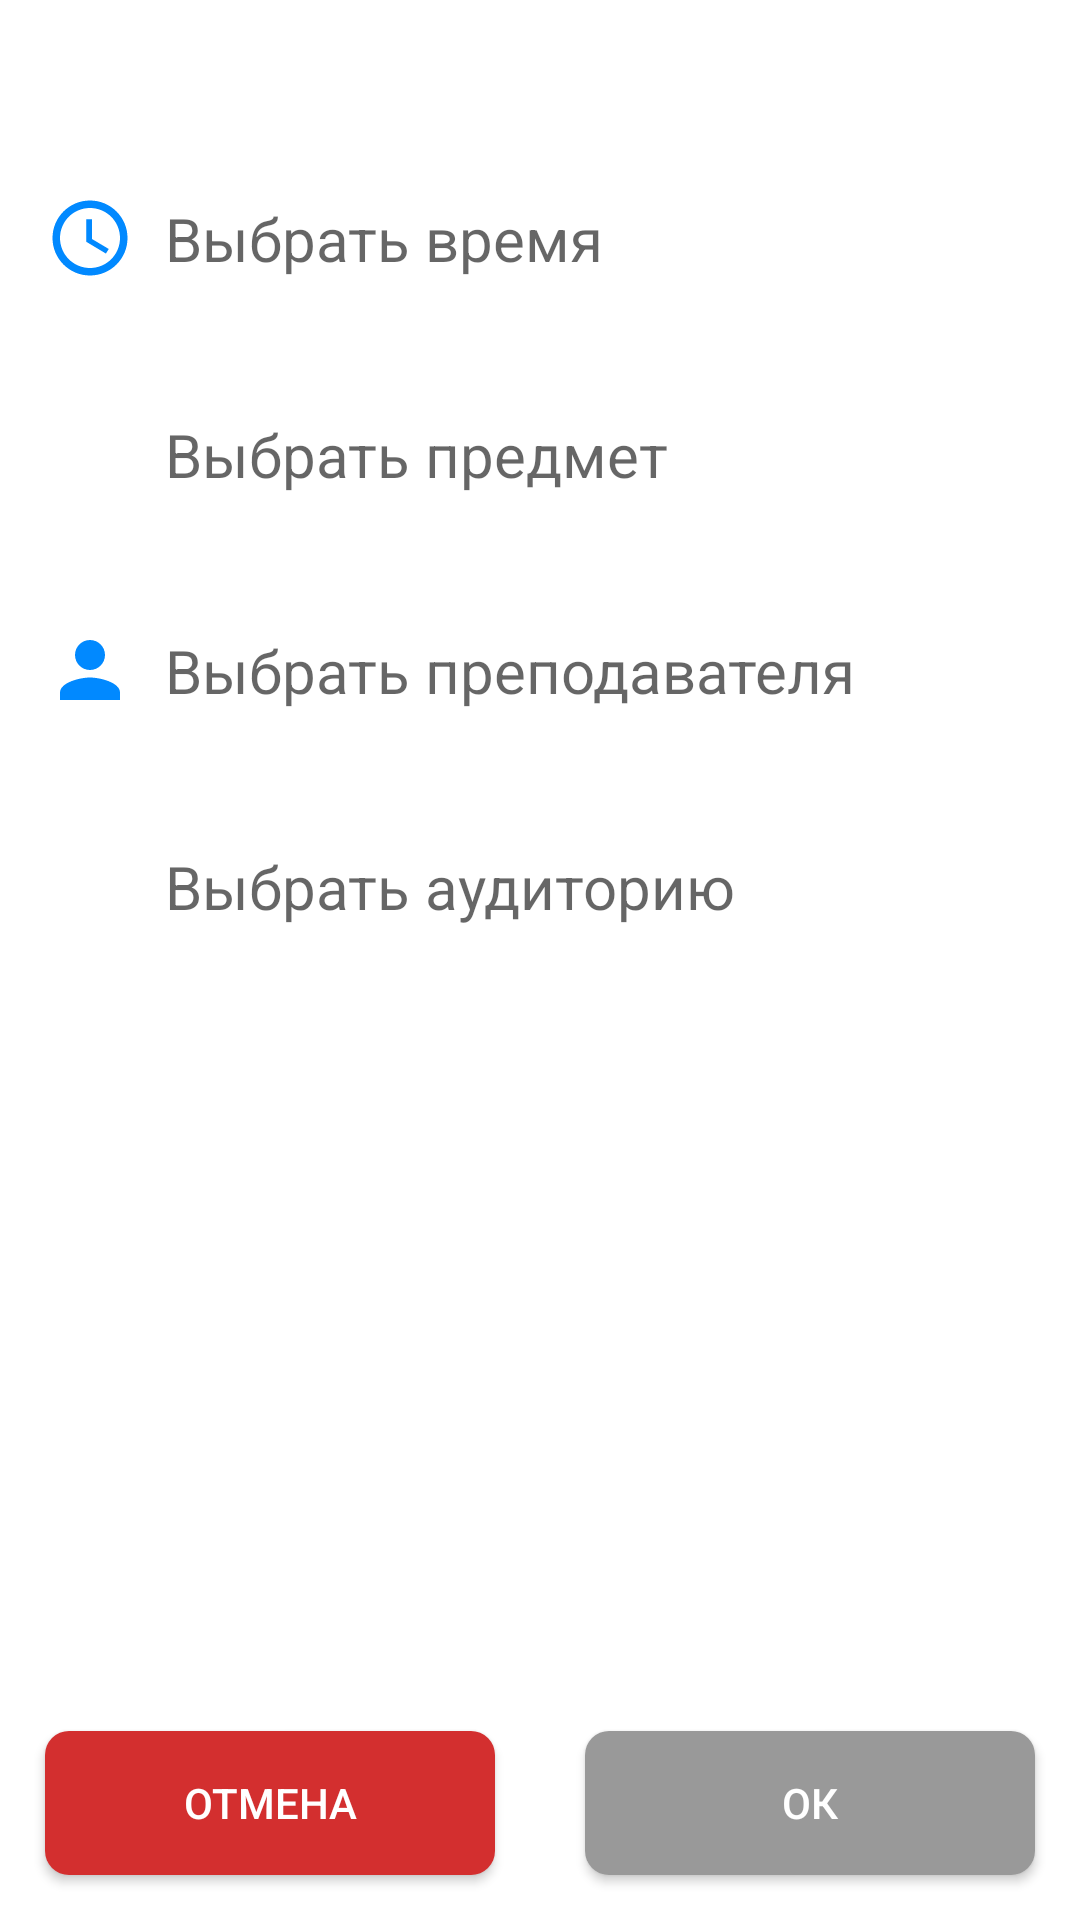

Icons on this 1080×1920 Android screen, each with its box as (x1, y1, x2, y2):
access time: (52, 200, 128, 276)
person: (60, 640, 120, 700)
